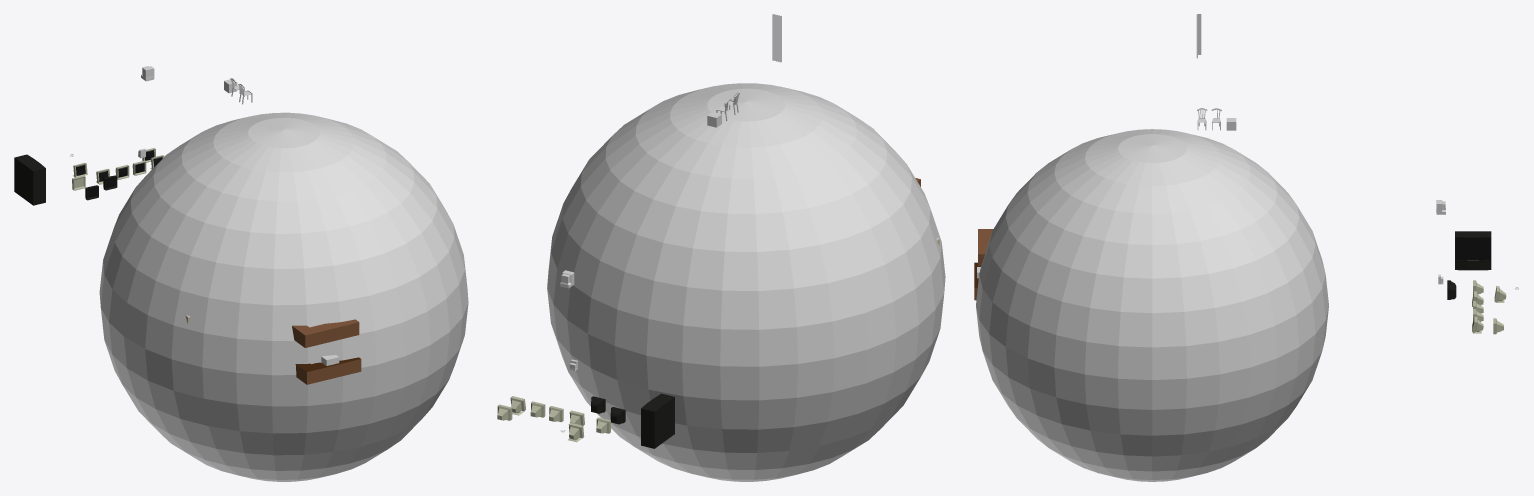
The model's file is apartment.glb.
The picture shows the model from 3 angles, left to right: view 1: azimuth 30°, elevation 25°; view 2: azimuth 150°, elevation 25°; view 3: azimuth 270°, elevation 25°; orthographic projection. The views are drawn at different scales.
Parts seen in each view (by area): view 1: Sky, Cube.105, Cube.131, Cube.057; view 2: Sky, Cube.105; view 3: Sky, Cube.105.
Boxes of the visible parts, bbox=[...] form: Sky: bbox=[99, 112, 468, 481]; Cube.105: bbox=[14, 154, 45, 205]; Cube.131: bbox=[292, 319, 359, 347]; Cube.057: bbox=[295, 357, 361, 384]; Sky: bbox=[547, 83, 945, 481]; Cube.105: bbox=[641, 393, 674, 448]; Sky: bbox=[976, 129, 1328, 481]; Cube.105: bbox=[1455, 231, 1491, 270].
Size of the model in its own units: 778 by 1034 by 1201.
